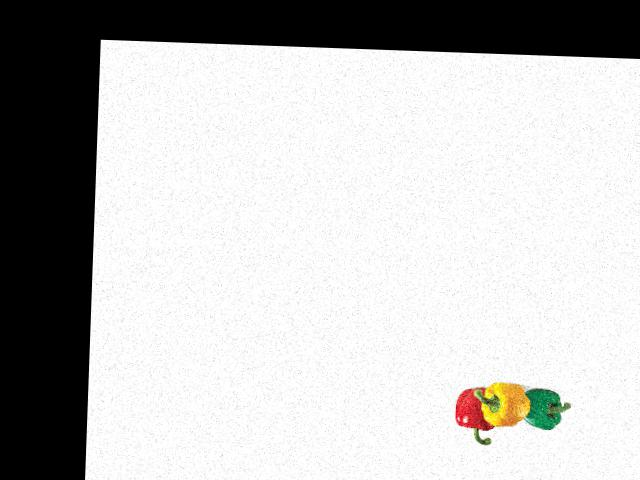bell_pepper: (517, 383, 569, 434)
